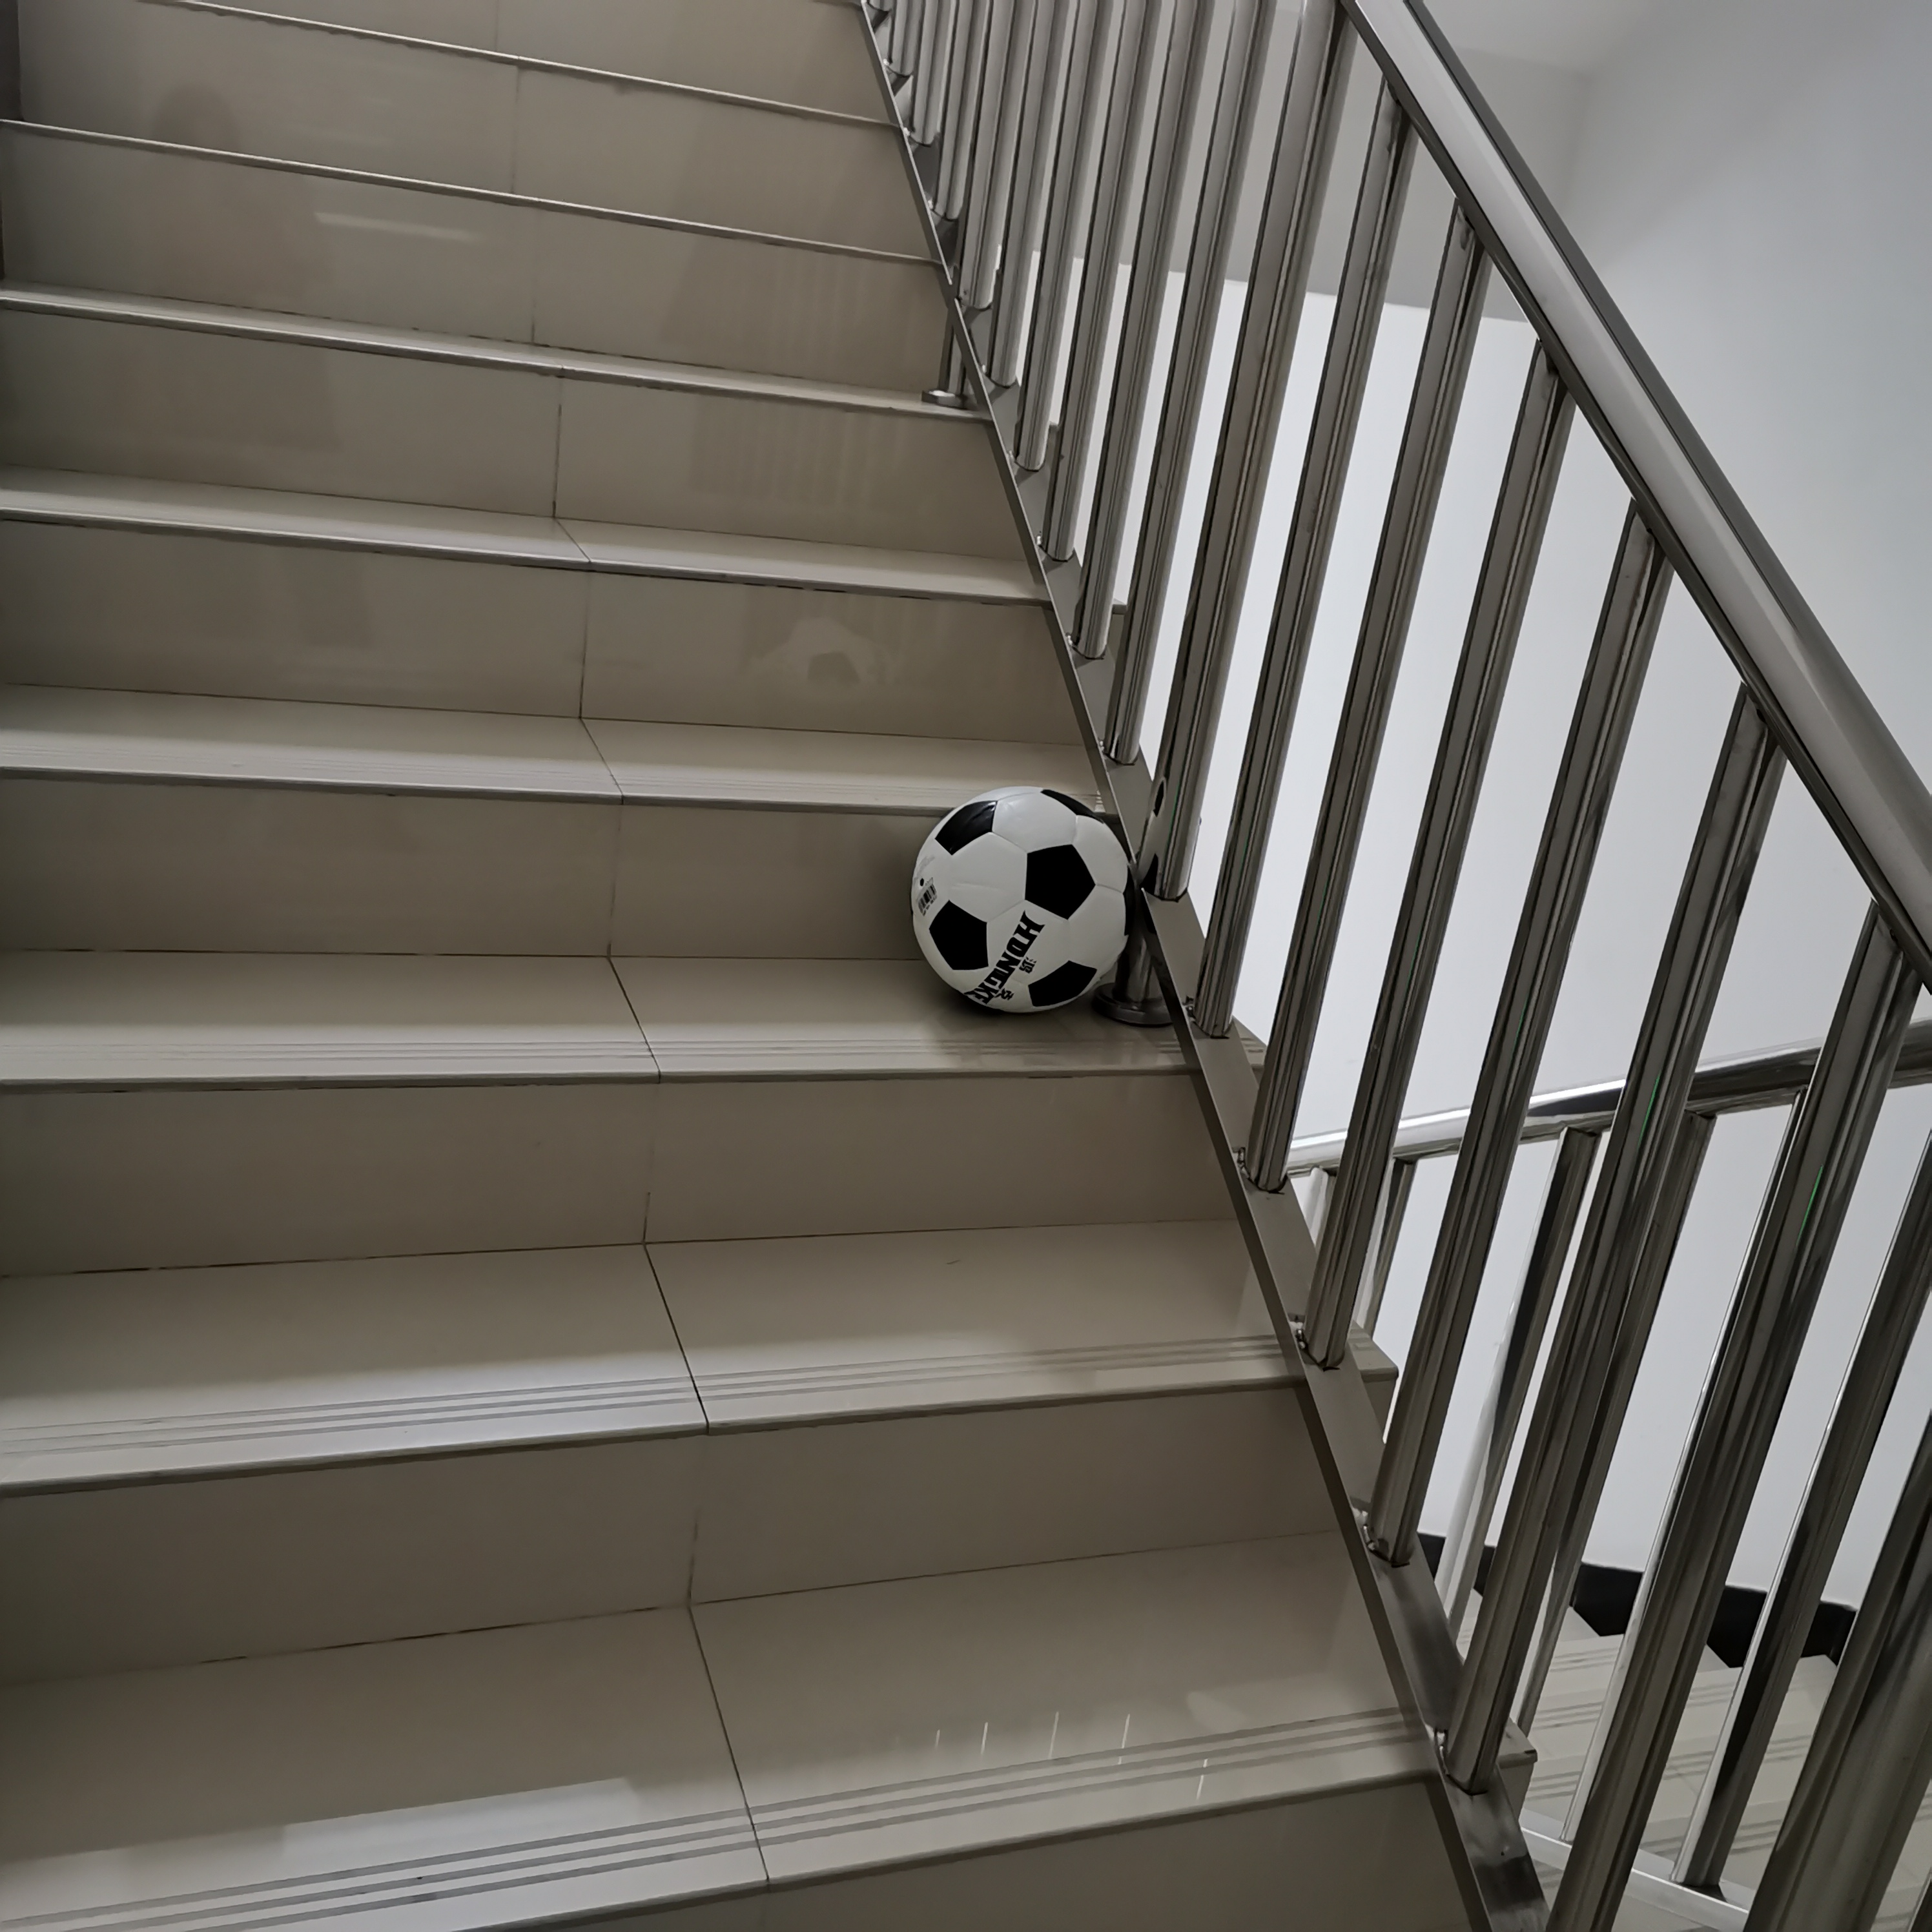football: (909, 784, 1132, 1014)
